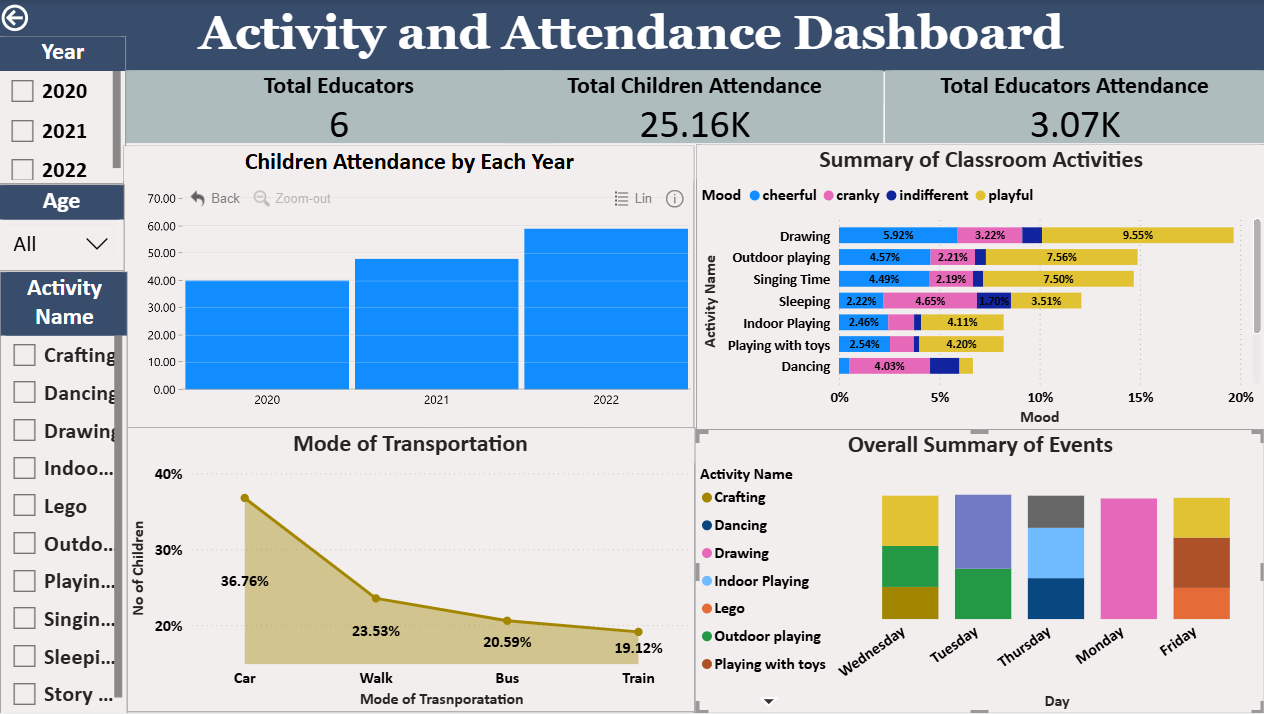

The page's visual inventory and layout, read from the dashboard file:
{"tool":"powerbi","page":{"name":"Activity and Attendance Dashboard","canvas":[1280,720],"ordinal":3},"visuals":[{"type":"textbox","box":[0,0,1280.3,72.1],"z":0},{"type":"card","title":"Total Educators","fields":{"Values":["Count(Educator.educator_name)"]},"box":[128.7,71.5,432.3,73.1],"z":1000},{"type":"card","title":"Total Educators Attendance","fields":{"Values":["CountNonNull(EducatorAttendance.e_attendance_id)"]},"box":[896.4,71.5,383,73.1],"z":2000},{"type":"slicer","title":"Year","fields":{"Values":["ChildAttendance.year"]},"box":[1.6,36.6,128.7,149.4],"z":3000},{"type":"ZoomChartsFacetChartFree33C9F325D337408C98D4E1D4E1EAD704","title":"Children Attendance by Each Year","fields":{"Category":["ChildAttendance.date.Variation.Date Hierarchy.Year","ChildAttendance.date.Variation.Date Hierarchy.Month","ChildAttendance.date.Variation.Date Hierarchy.Day","ChildAttendance.attendance"],"Values":["Count(ChildAttendance.child_id)"]},"box":[127.6,146.2,576.9,287.1],"z":4000},{"type":"columnChart","title":"Overall Summary of Events","fields":{"Category":["ChildAttendance.day"],"Series":["Activity.activity_name"],"Y":["CountNonNull(ChildAttendance.activity_id)"]},"box":[704.1,433,575.9,287.2],"z":5000},{"type":"actionButton","box":[0,0,128.8,36.1],"z":6000},{"type":"barChart","title":"Summary of Classroom Activities","fields":{"Category":["Activity.activity_name"],"Series":["ChildAttendance.mood"],"Y":["CountNonNull(ChildAttendance.mood)"]},"box":[705.6,145.8,574.4,288.7],"z":7000},{"type":"stackedAreaChart","title":"Mode of Transportation","fields":{"Category":["Child.mode_of_transport"],"Y":["CountNonNull(Child.child_id)"]},"box":[128.3,431.5,575.9,287.2],"z":9000},{"type":"slicer","title":"Activity Name","fields":{"Values":["Activity.activity_name"]},"box":[3.2,273.4,128.7,446.6],"z":10000},{"type":"card","title":"Total Children Attendance","fields":{"Values":["Count(ChildAttendance.c_attendance_id)"]},"box":[513.4,71.5,381.5,73.1],"z":11000},{"type":"slicer","title":"Age","fields":{"Values":["Child.age"]},"box":[0,186,128.7,87.4],"z":12000}]}

Visuals, with their boxes in screenshot pixels (x1, y1, x2, y2), scaled from the page's 1280x720 canvas onto the 1264x714 screenshot:
textbox: l=0, t=0, r=1263, b=71
"Total Educators" card: l=127, t=71, r=554, b=143
"Total Educators Attendance" card: l=885, t=71, r=1263, b=143
"Year" slicer: l=2, t=36, r=129, b=184
"Children Attendance by Each Year" ZoomChartsFacetChartFree33C9F325D337408C98D4E1D4E1EAD704: l=126, t=145, r=696, b=430
"Overall Summary of Events" columnChart: l=695, t=429, r=1263, b=713
actionButton: l=0, t=0, r=127, b=36
"Summary of Classroom Activities" barChart: l=697, t=145, r=1263, b=431
"Mode of Transportation" stackedAreaChart: l=127, t=428, r=695, b=713
"Activity Name" slicer: l=3, t=271, r=130, b=713
"Total Children Attendance" card: l=507, t=71, r=884, b=143
"Age" slicer: l=0, t=184, r=127, b=271
